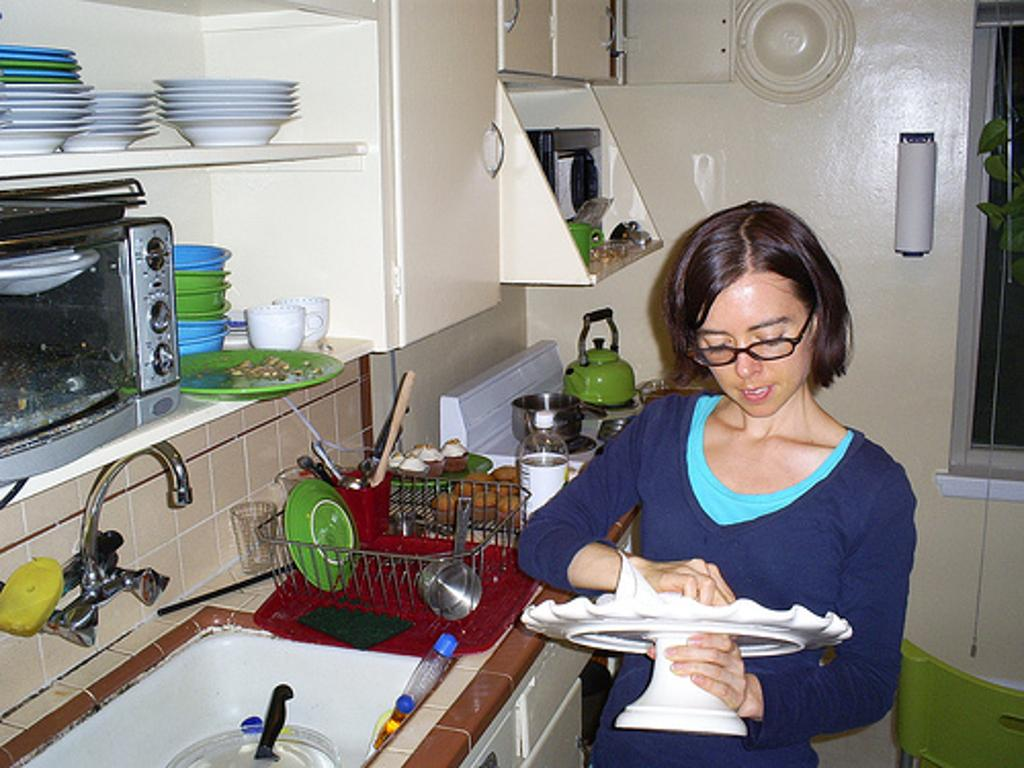face: (706, 272, 796, 412)
